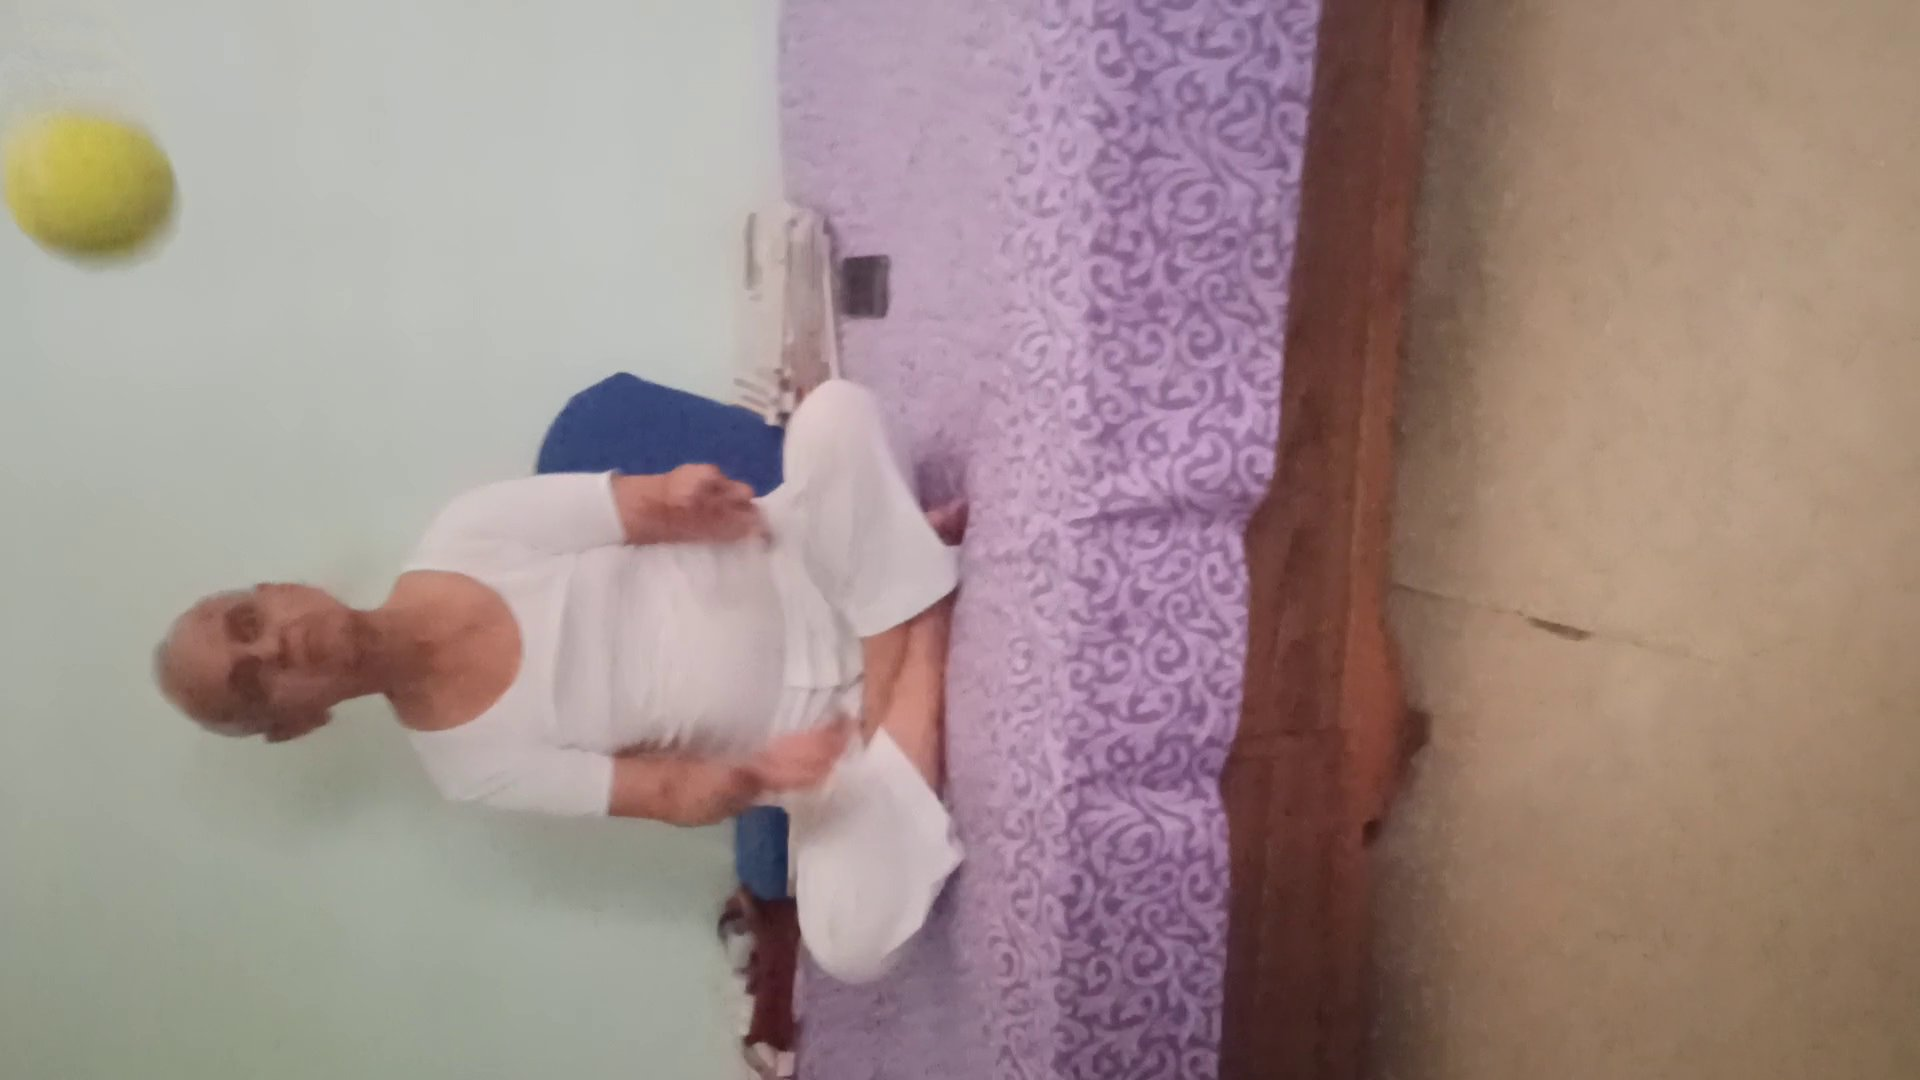Tennis-Ball: (1, 108, 178, 264)
